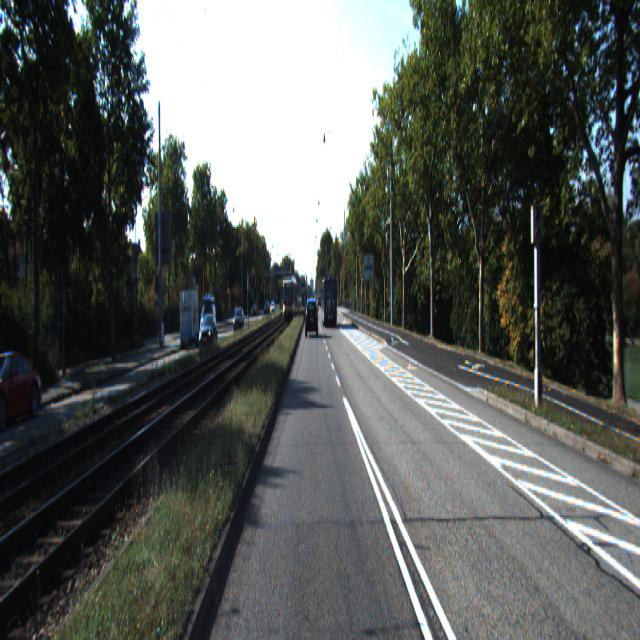Car: (0, 342, 47, 431), (179, 290, 200, 352), (321, 276, 338, 326), (198, 312, 218, 353), (306, 300, 318, 337)
